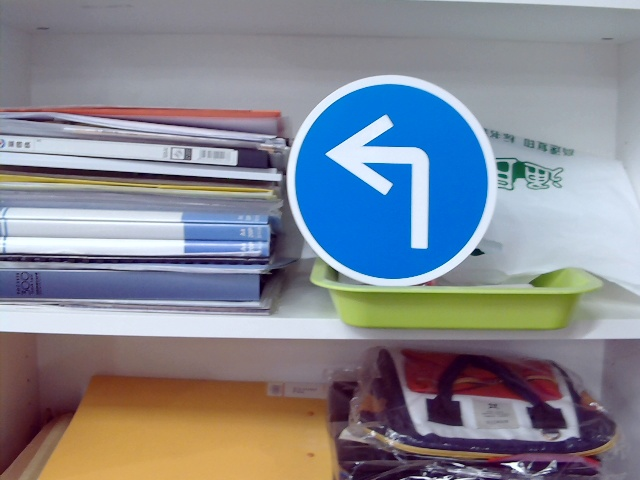turn_left: (327, 114, 446, 242)
